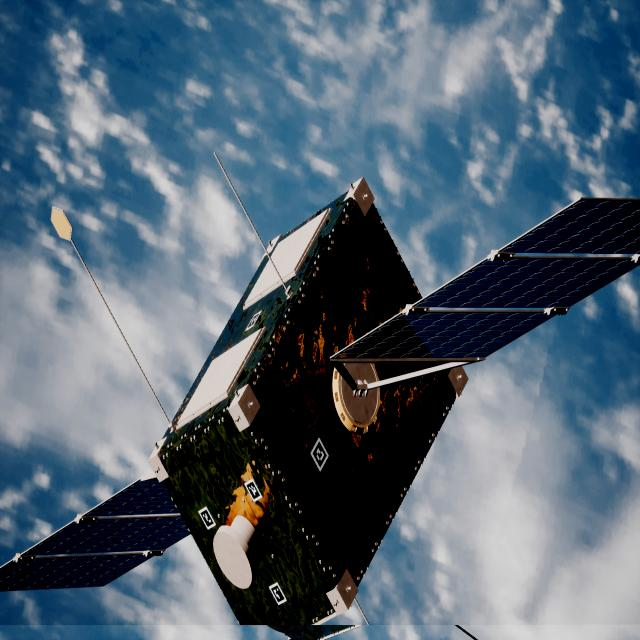medium_debris: (0, 180, 640, 640)
